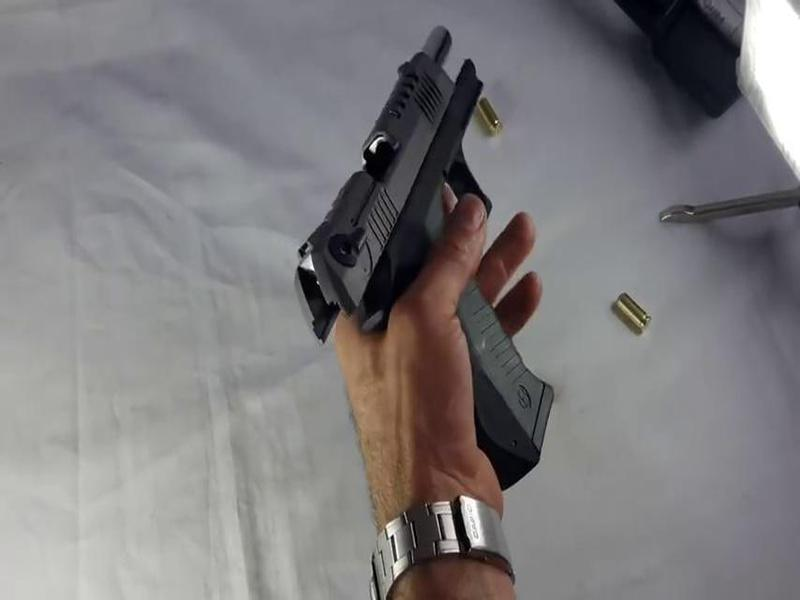Pistola: (271, 8, 587, 484)
